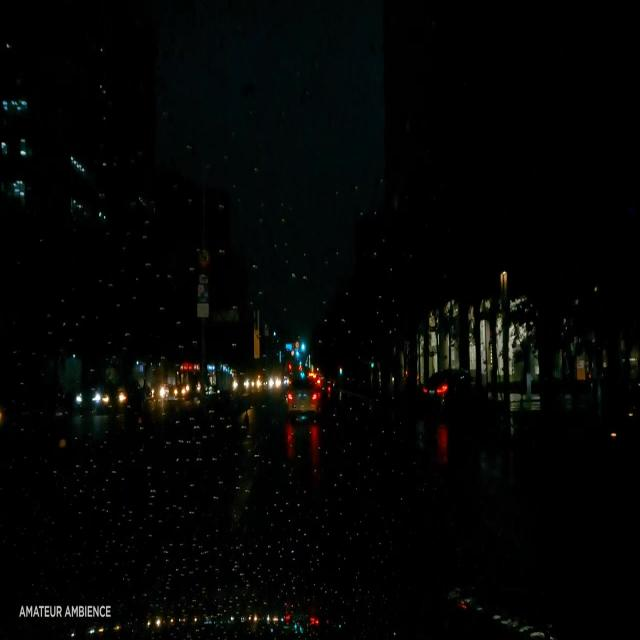Car: (416, 365, 473, 400), (281, 369, 318, 411)
